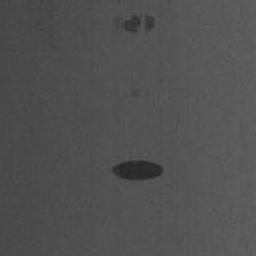Oil spot: (110, 159, 165, 183), (114, 13, 157, 35)
